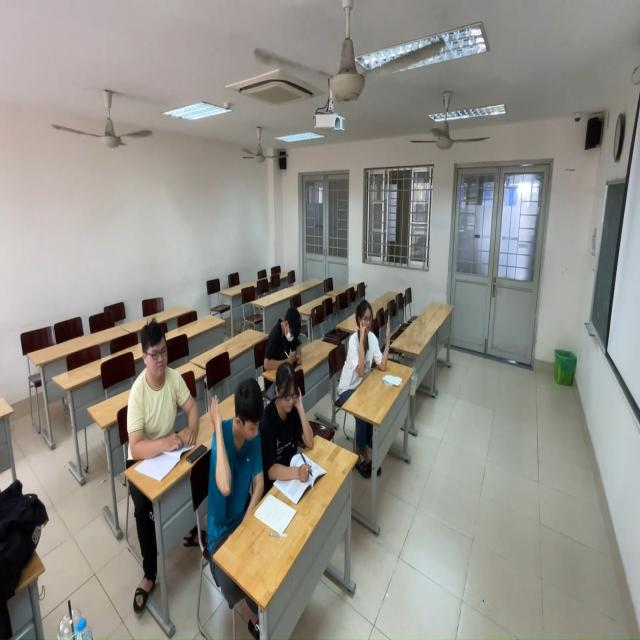raise_hand: (207, 336, 274, 550), (339, 293, 398, 399)
read: (126, 305, 191, 467), (255, 358, 316, 486), (247, 265, 307, 373)
